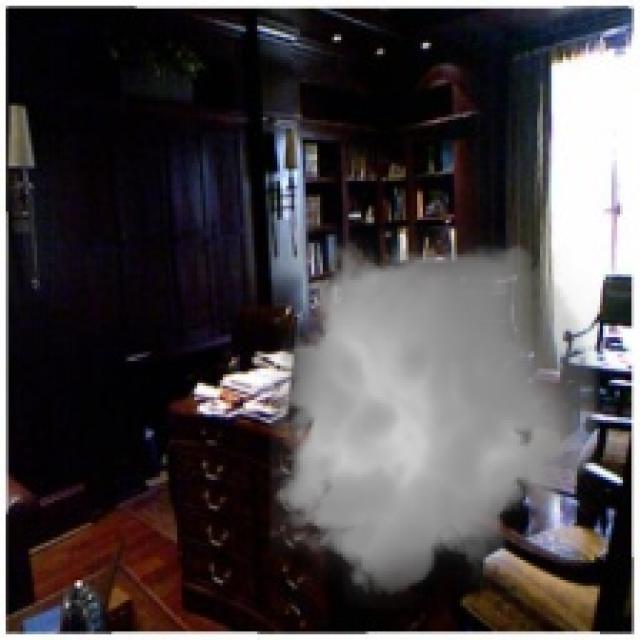smoke: (254, 226, 612, 608)
